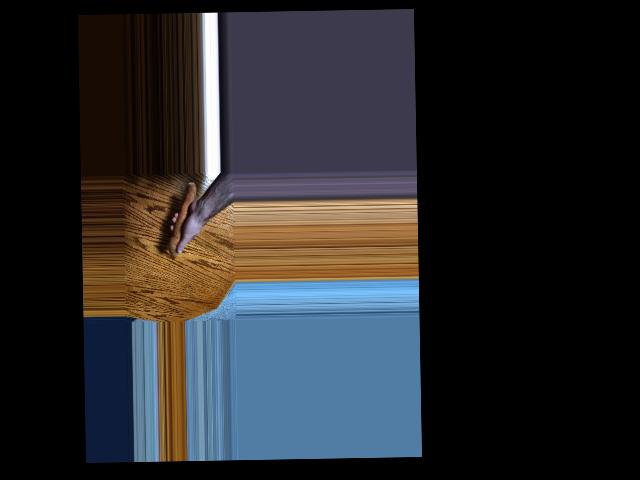sweet_potato: (164, 181, 200, 256)
